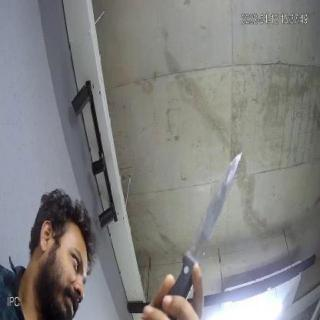knife: (187, 154, 243, 272)
